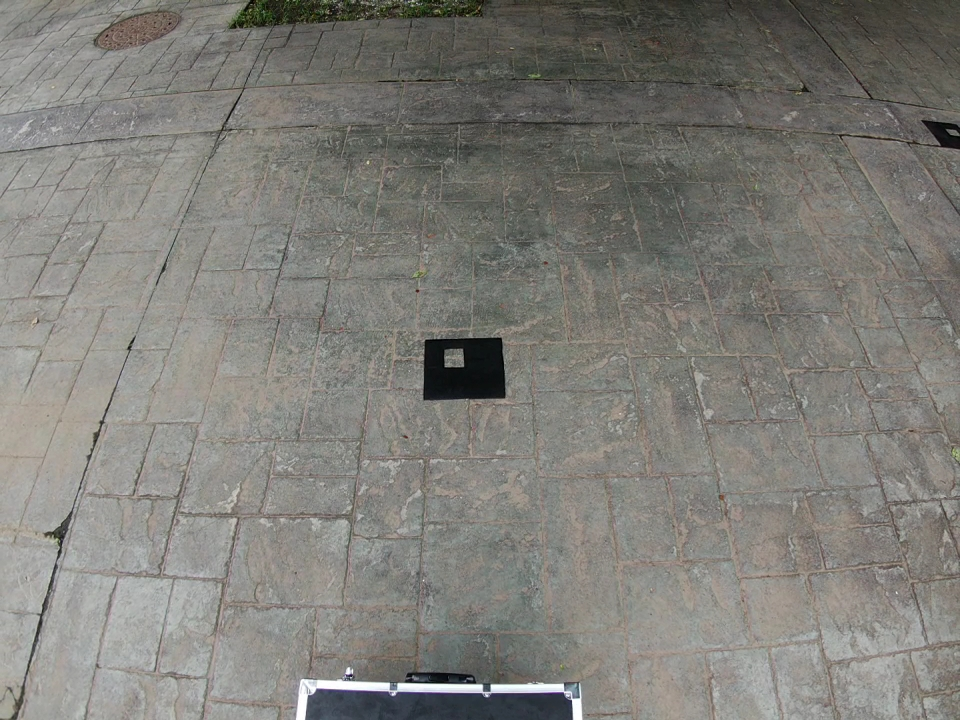qrcode: (424, 338, 506, 399)
